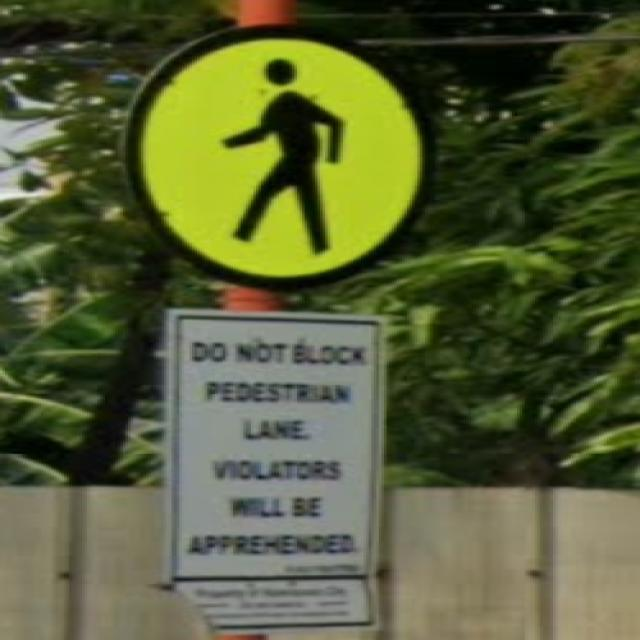pedestrian crossing: (121, 24, 436, 286)
